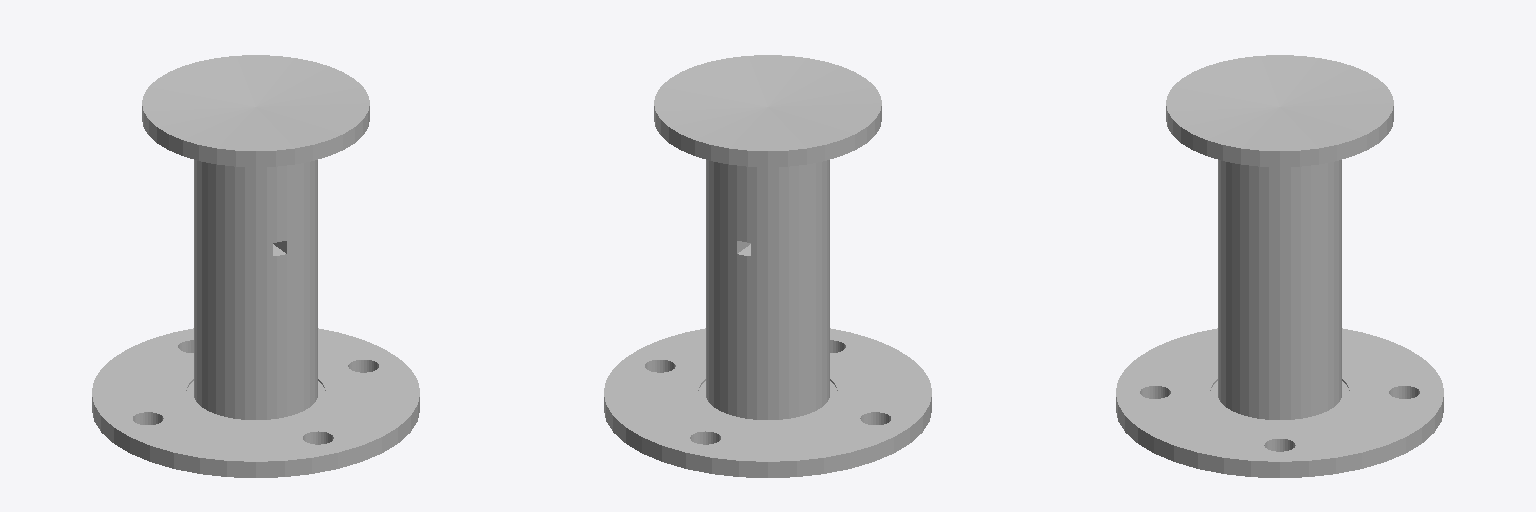
File: horn_0001.obj
3 renders of one model, left to right at view 1: azimuth 30°, elevation 25°; view 2: azimuth 150°, elevation 25°; view 3: azimuth 270°, elevation 25°, orthographic.
Parts seen in each view (by area): view 1: Cylindre.1; view 2: Cylindre.1; view 3: Cylindre.1.
Boxes of the visible parts, x1,y1,x2,y2 form: Cylindre.1: [92, 55, 419, 477]; Cylindre.1: [604, 55, 931, 477]; Cylindre.1: [1116, 55, 1443, 477].
Bounding box in the file's own units: 2.11 × 2.16 × 2.11.